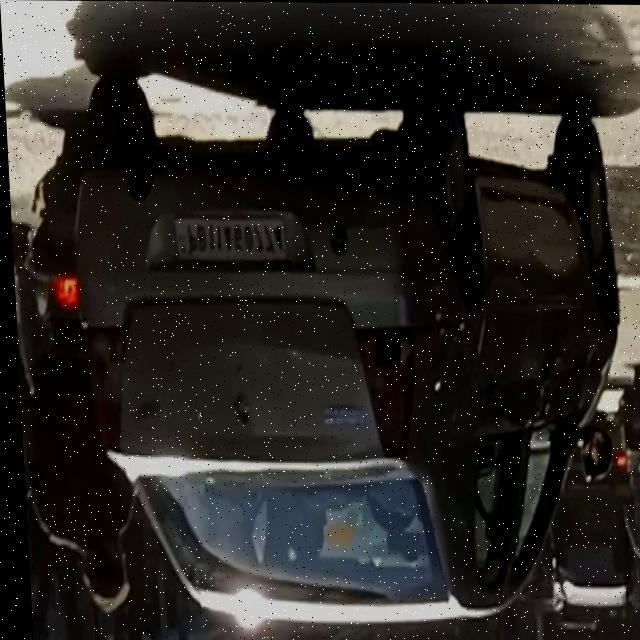plate: (170, 211, 288, 266)
